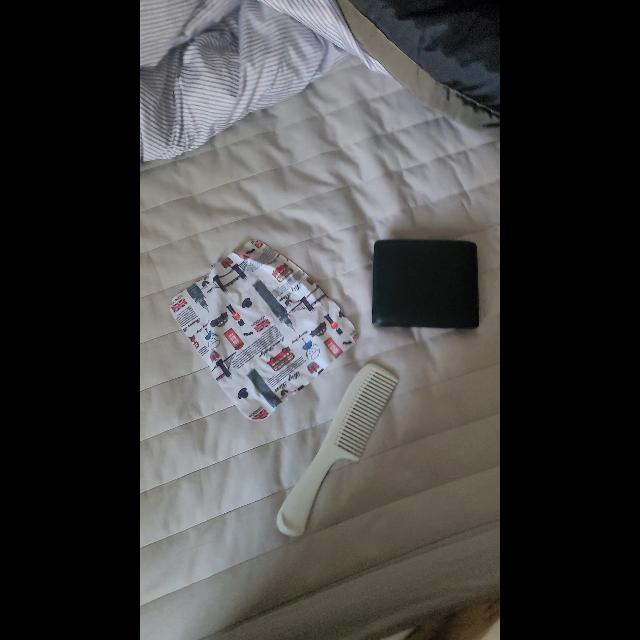COMB: (276, 364, 399, 536)
Glasses cleaning cloth: (170, 239, 358, 421)
WALLET: (371, 239, 479, 329)
